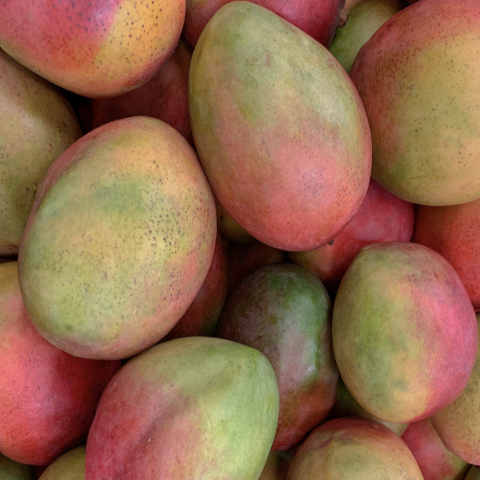mango: (150, 6, 414, 276), (5, 113, 224, 367), (87, 330, 300, 479), (325, 235, 476, 414)
